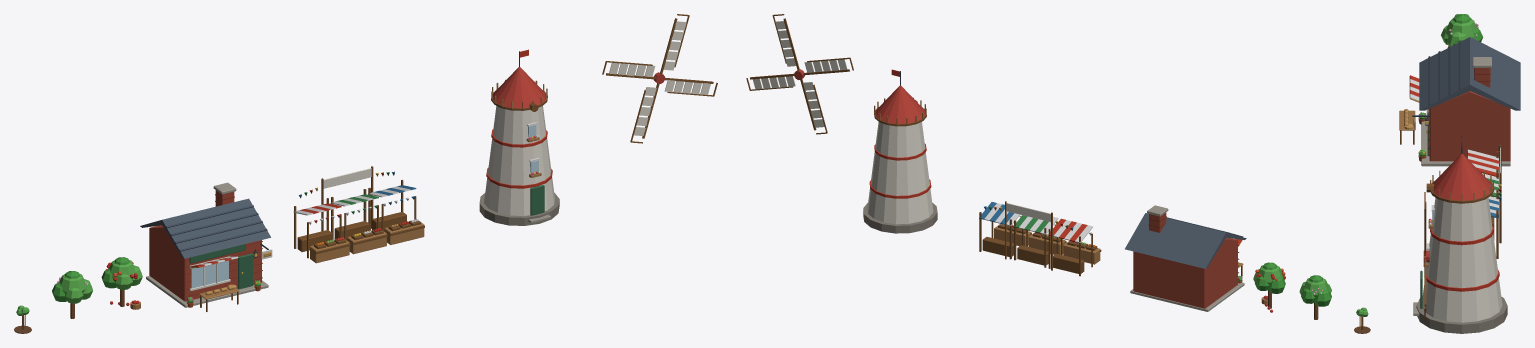
File: farm-valley.glb
3 renders of one model, left to right at view 1: azimuth 30°, elevation 25°; view 2: azimuth 150°, elevation 25°; view 3: azimuth 270°, elevation 25°, orthographic. The views are drawn at different scales.
Parts seen in each view (by area): view 1: fm_bakery_mesh, fm_windmill_fixed_mesh, fm_market_mesh, fm_sails_mesh, fm_apple_3_mesh, fm_apple_2_mesh; view 2: fm_bakery_mesh, fm_windmill_fixed_mesh, fm_market_mesh, fm_sails_mesh, fm_apple_3_mesh, fm_apple_2_mesh; view 3: fm_windmill_fixed_mesh, fm_bakery_mesh, fm_market_mesh, fm_apple_2_mesh, fm_sails_mesh.
Part boxes in pixels (x1=…): fm_bakery_mesh: x1=140, y1=182, x2=272, y2=311; fm_windmill_fixed_mesh: x1=479, y1=49, x2=559, y2=225; fm_market_mesh: x1=293, y1=166, x2=424, y2=263; fm_sails_mesh: x1=602, y1=14, x2=717, y2=143; fm_apple_3_mesh: x1=101, y1=257, x2=142, y2=309; fm_apple_2_mesh: x1=52, y1=271, x2=92, y2=318; fm_bakery_mesh: x1=1125, y1=205, x2=1246, y2=311; fm_windmill_fixed_mesh: x1=863, y1=69, x2=937, y2=233; fm_market_mesh: x1=979, y1=201, x2=1101, y2=276; fm_sails_mesh: x1=746, y1=14, x2=853, y2=134; fm_apple_3_mesh: x1=1253, y1=262, x2=1285, y2=312; fm_apple_2_mesh: x1=1299, y1=275, x2=1331, y2=319; fm_windmill_fixed_mesh: x1=1413, y1=136, x2=1507, y2=333; fm_bakery_mesh: x1=1399, y1=37, x2=1520, y2=166; fm_market_mesh: x1=1467, y1=145, x2=1501, y2=258; fm_apple_2_mesh: x1=1441, y1=14, x2=1483, y2=45; fm_sails_mesh: x1=1423, y1=192, x2=1429, y2=320.
Bounding box in the file's own units: 44.21 × 10.63 × 6.
